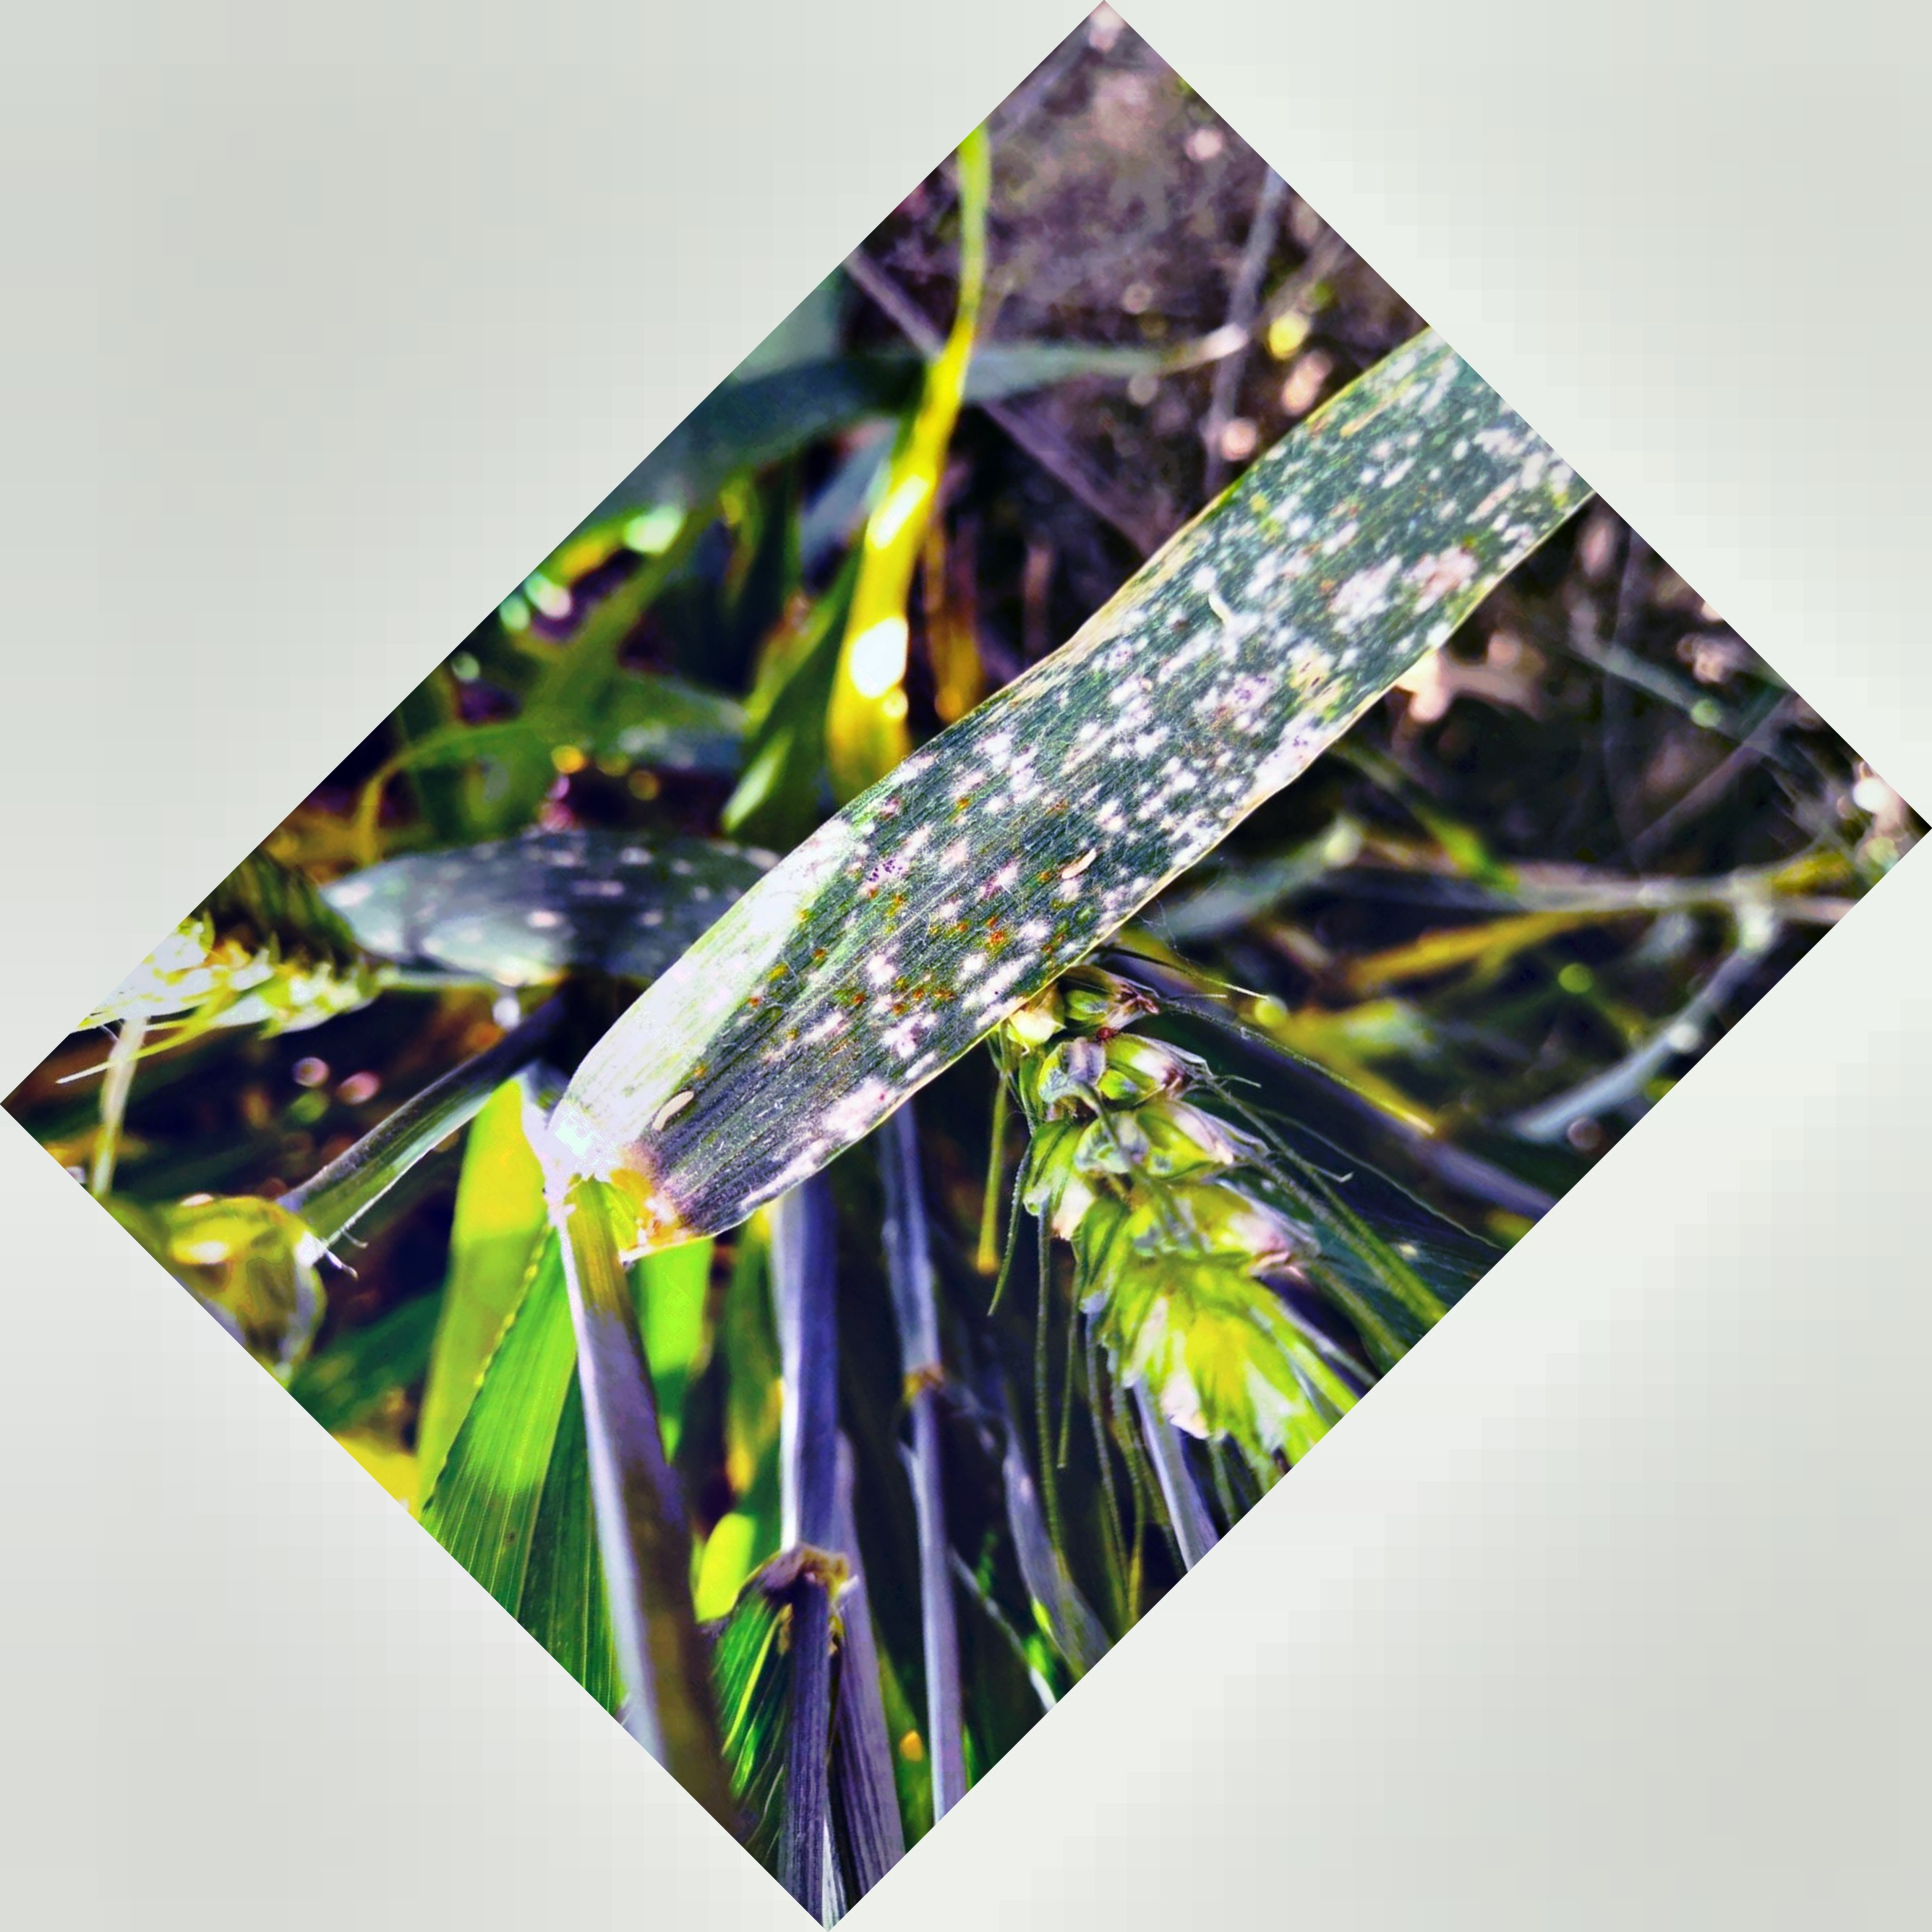Powdery Mildew: (757, 393, 1545, 1079)
